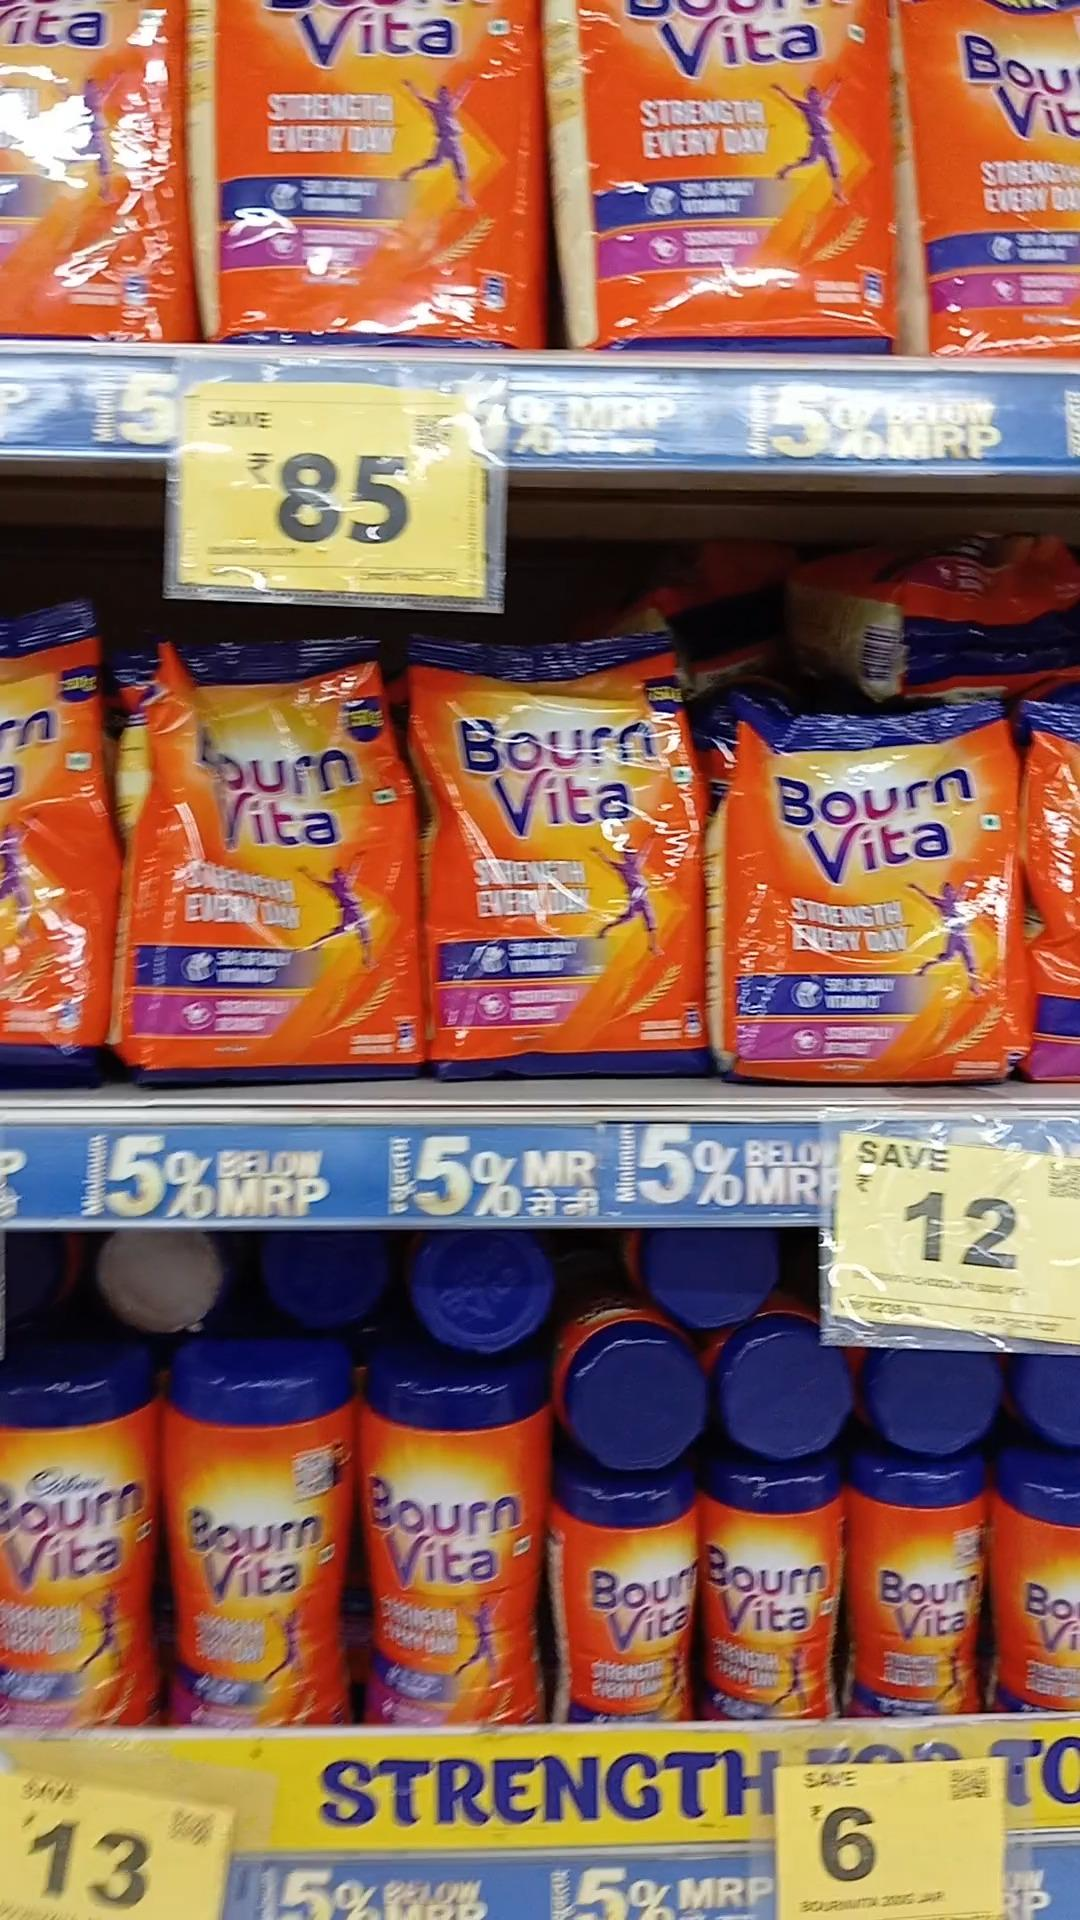BOURN_VITA_200_G_JAR: (853, 1458, 986, 1722), (702, 1466, 833, 1716), (555, 1485, 690, 1722)
BOURN_VITA_500_G_JAR: (167, 1353, 348, 1726), (365, 1367, 542, 1727), (0, 1366, 156, 1722)
BOURN_VITA_500_G_POUCH: (727, 692, 1026, 1080)
BOURN_VITA_750_G_POUCH: (127, 640, 410, 1071), (429, 644, 698, 1065)
